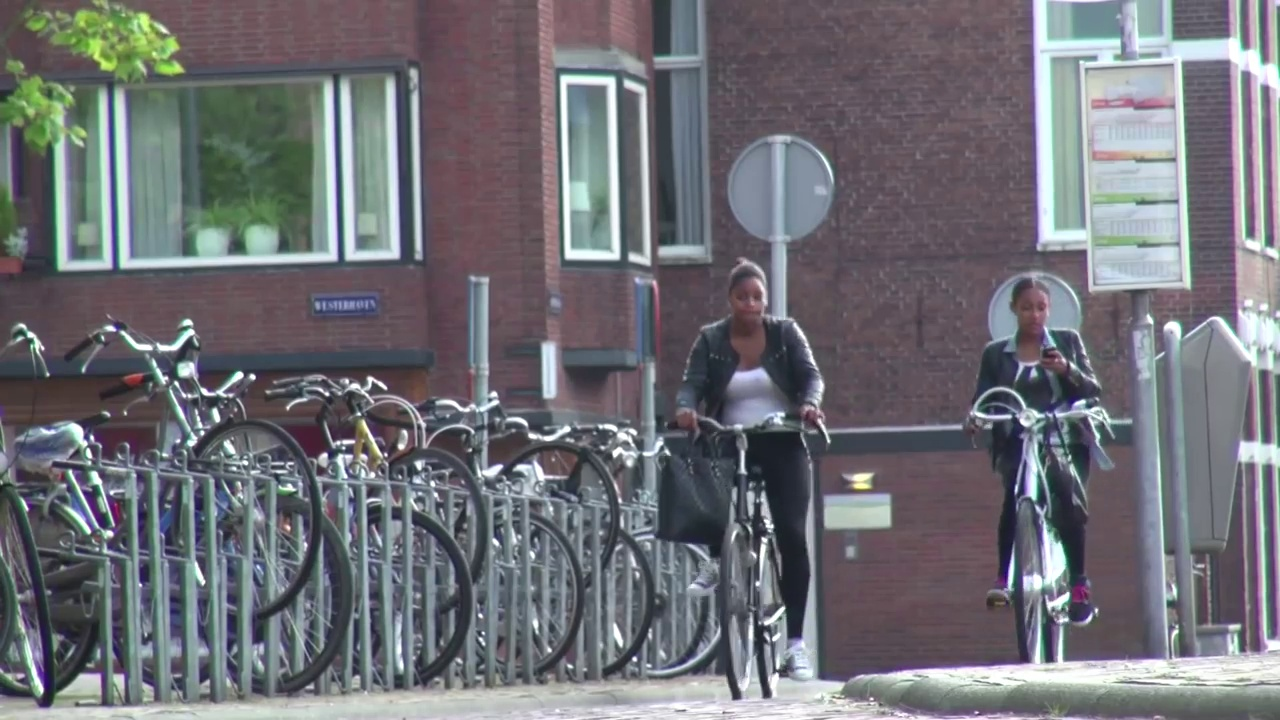cyclist_front: (668, 256, 827, 710), (970, 270, 1105, 683)
